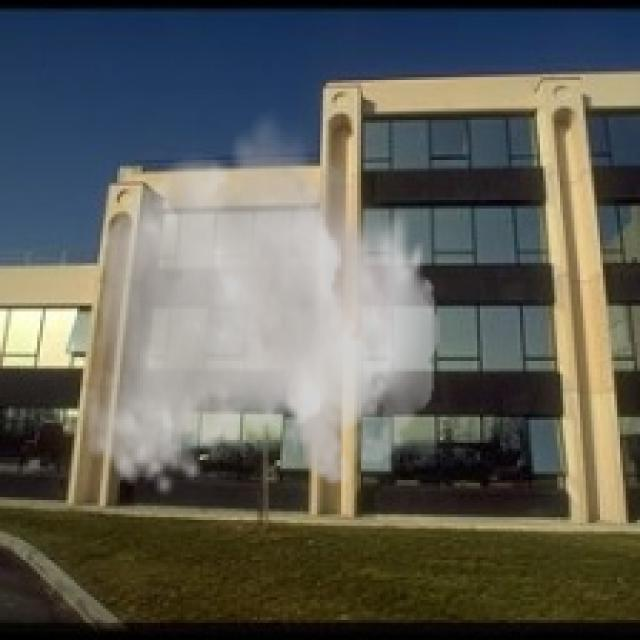Smoke: (83, 106, 440, 500)
